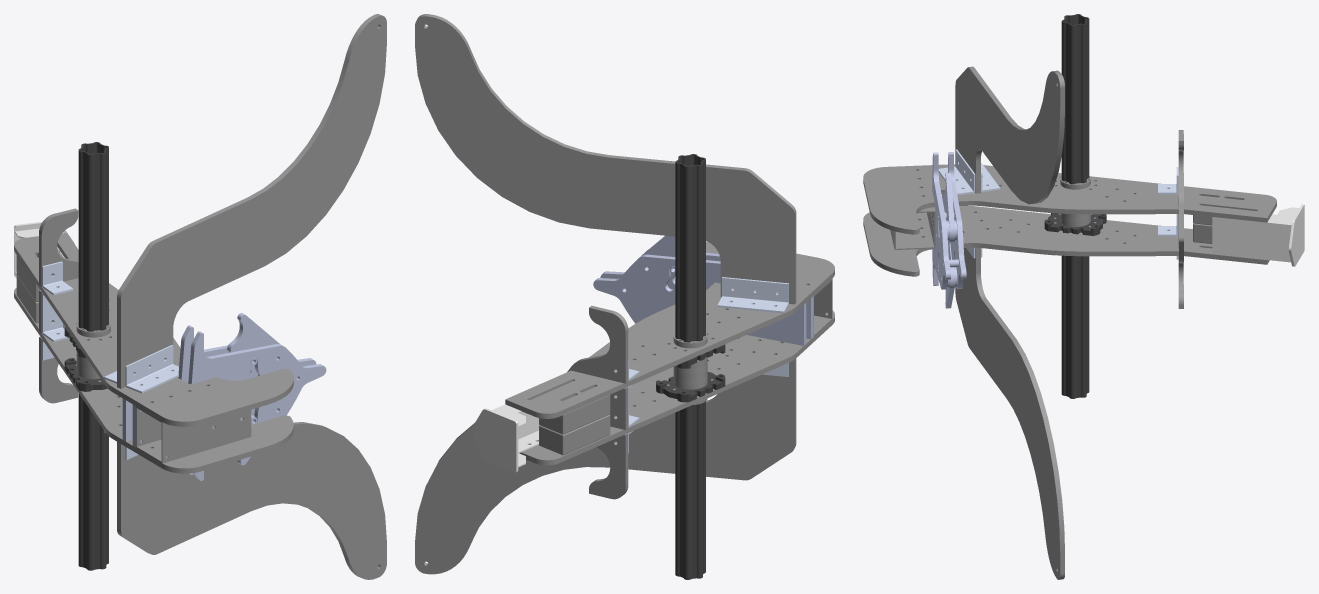
3 renders of one model, left to right at view 1: azimuth 30°, elevation 25°; view 2: azimuth 150°, elevation 25°; view 3: azimuth 270°, elevation 25°, orthographic. The views are drawn at different scales.
Parts seen in each view (by area): view 1: Climber; view 2: Climber; view 3: Climber.
Boxes of the visible parts, box(x1,y1,x2,y2) form: Climber: box(14, 14, 386, 579); Climber: box(415, 14, 834, 579); Climber: box(863, 14, 1304, 579).
Bounding box in the file's own units: 0.4206 × 0.6858 × 0.5444.
